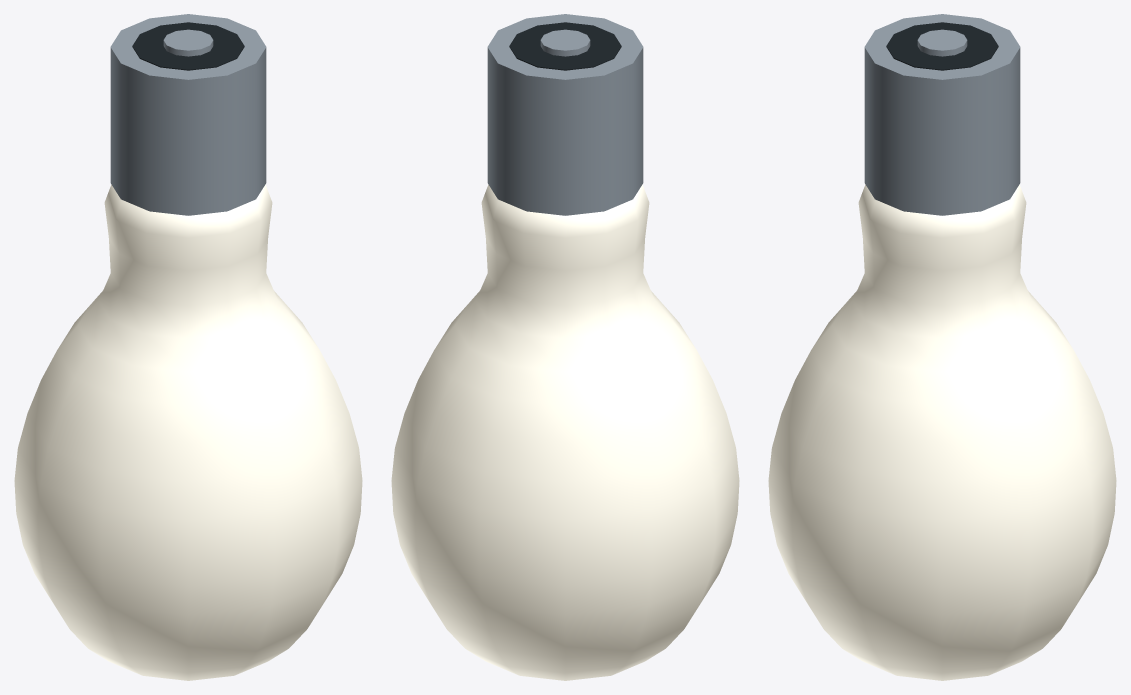
File: source.glb
3 views of the same model, side by side, from view 1: azimuth 30°, elevation 25°; view 2: azimuth 150°, elevation 25°; view 3: azimuth 270°, elevation 25° (orthographic).
Parts seen in each view (by area): view 1: Emitters, 机加工金属, 密封及绝缘件; view 2: Emitters, 机加工金属, 密封及绝缘件; view 3: Emitters, 机加工金属, 密封及绝缘件.
Boxes of the visible parts, x1,y1,x2,y2 form: Emitters: [14, 184, 362, 680]; 机加工金属: [110, 14, 266, 215]; 密封及绝缘件: [132, 22, 244, 70]; Emitters: [391, 184, 739, 680]; 机加工金属: [487, 14, 643, 215]; 密封及绝缘件: [509, 22, 621, 70]; Emitters: [768, 184, 1116, 680]; 机加工金属: [864, 14, 1020, 215]; 密封及绝缘件: [886, 22, 998, 70].
Bounding box in the file's own units: 0.0602 × 0.1193 × 0.0602.
